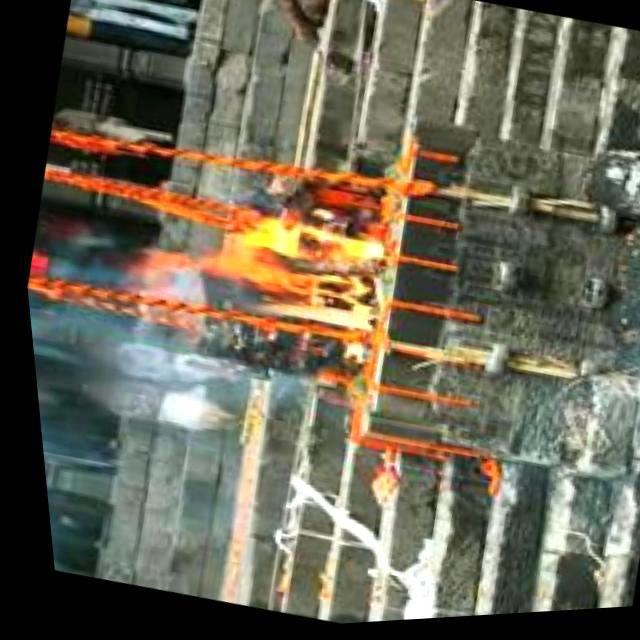fire: (192, 192, 392, 352)
